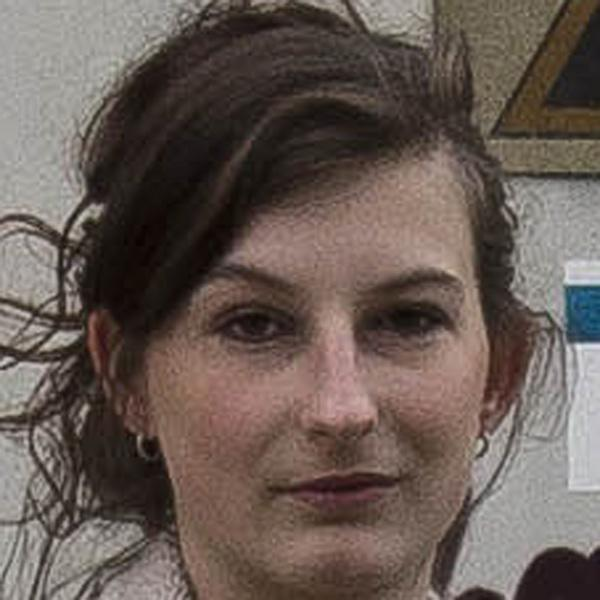Eyes: (202, 298, 301, 349), (364, 298, 457, 345)
